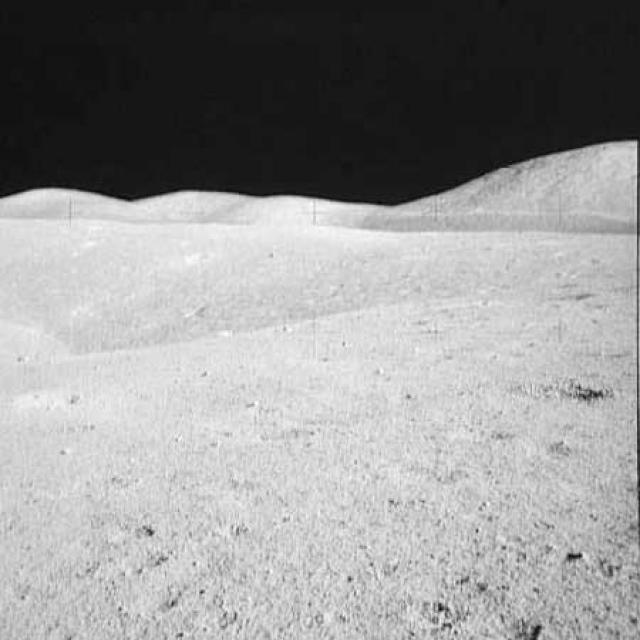crater: (0, 217, 447, 347)
